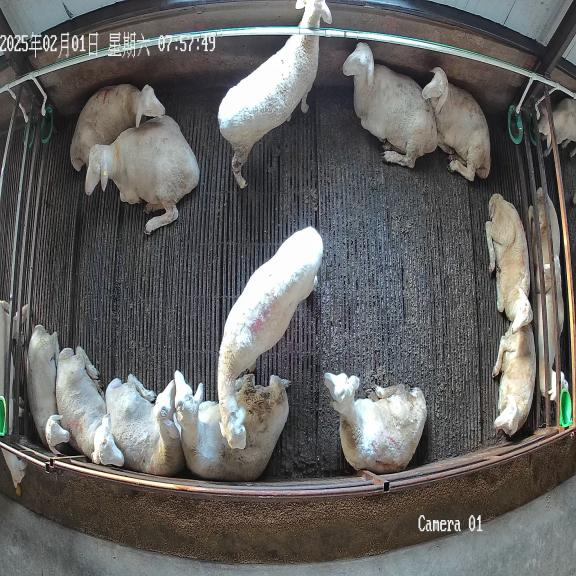lying: (85, 116, 199, 233), (174, 371, 289, 481), (342, 42, 437, 168), (324, 372, 427, 474), (70, 84, 165, 170), (56, 346, 124, 466), (106, 374, 186, 476), (422, 67, 490, 181), (486, 194, 533, 331), (27, 325, 70, 453), (493, 324, 536, 435)
stand: (218, 227, 323, 449), (218, 0, 331, 188)
